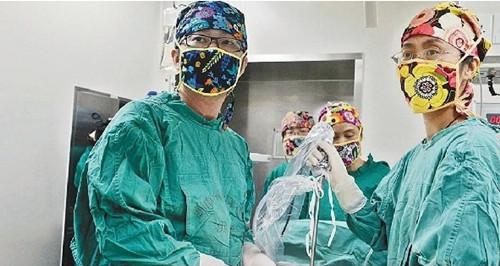OK: (177, 25, 250, 98), (397, 37, 466, 106), (321, 121, 364, 164), (284, 129, 314, 158)
